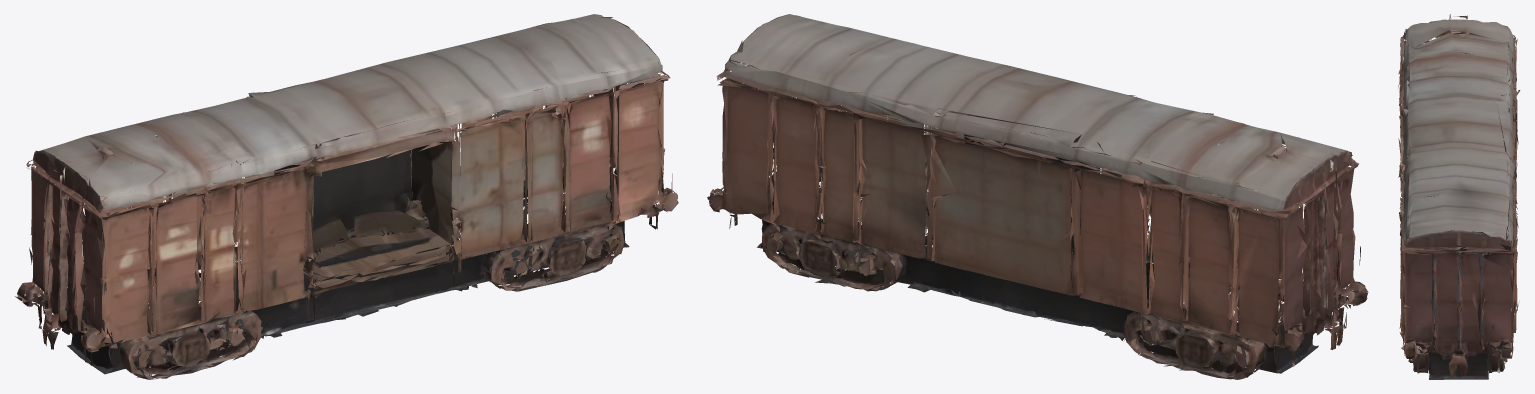
Rendered from container_boxcar_open.glb.
3 views of the same model, side by side, from view 1: azimuth 30°, elevation 25°; view 2: azimuth 150°, elevation 25°; view 3: azimuth 270°, elevation 25° (orthographic). The views are drawn at different scales.
Visible parts, largest first — view 1: container_boxcar_open; view 2: container_boxcar_open; view 3: container_boxcar_open.
Boxes of the visible parts, <box> form: container_boxcar_open: <box>15,14,678,379</box>; container_boxcar_open: <box>707,14,1368,379</box>; container_boxcar_open: <box>1398,14,1520,379</box>.
Bounding box in the file's own units: 14 × 4.8 × 3.2.
Materials: 1 (1 with a texture image).
